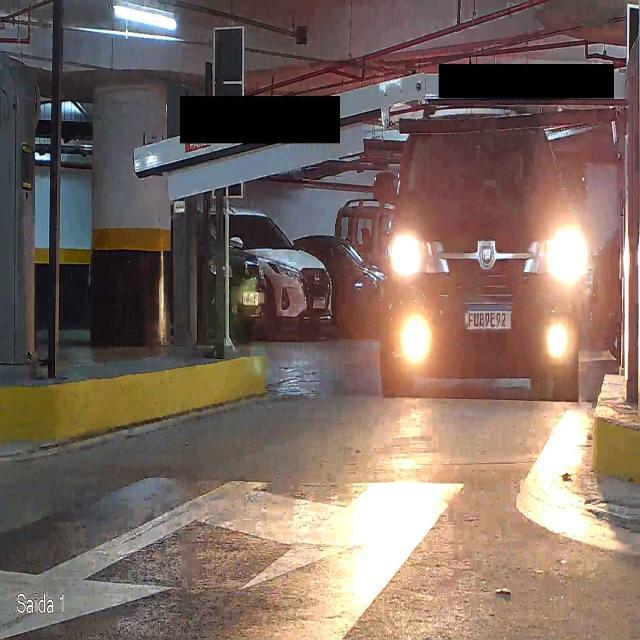mercosul_plate: (462, 302, 514, 334)
